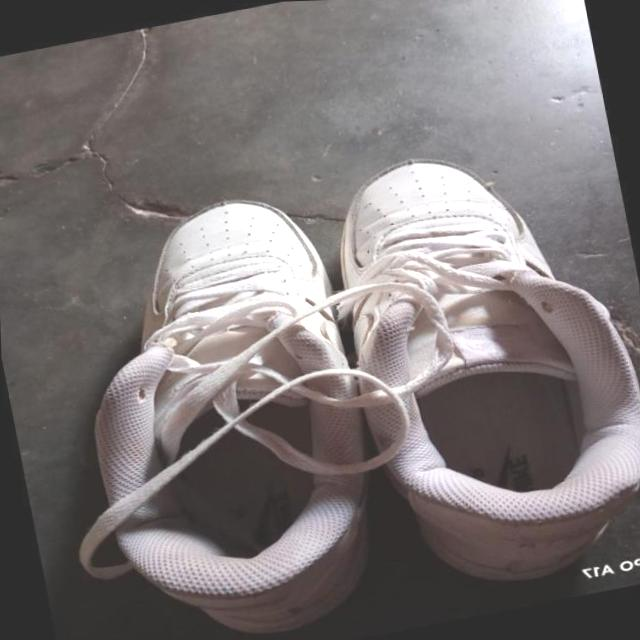nike_fake_airforce: (300, 120, 640, 610), (46, 175, 400, 640)
